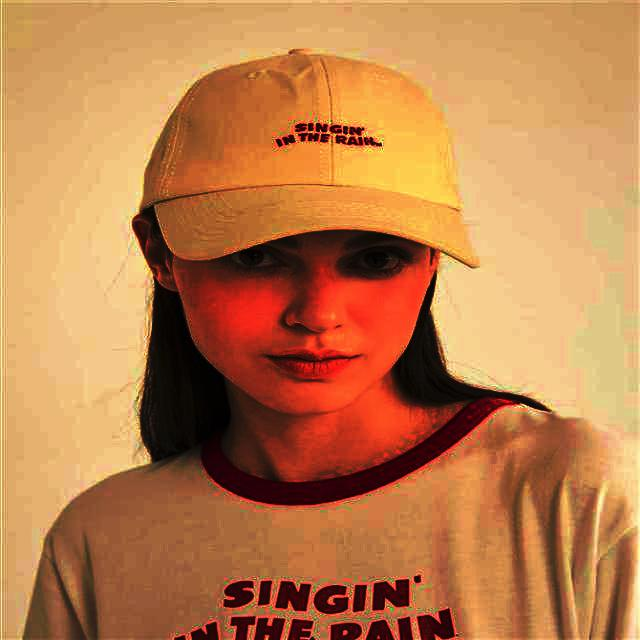TOPI: (137, 50, 483, 267)
